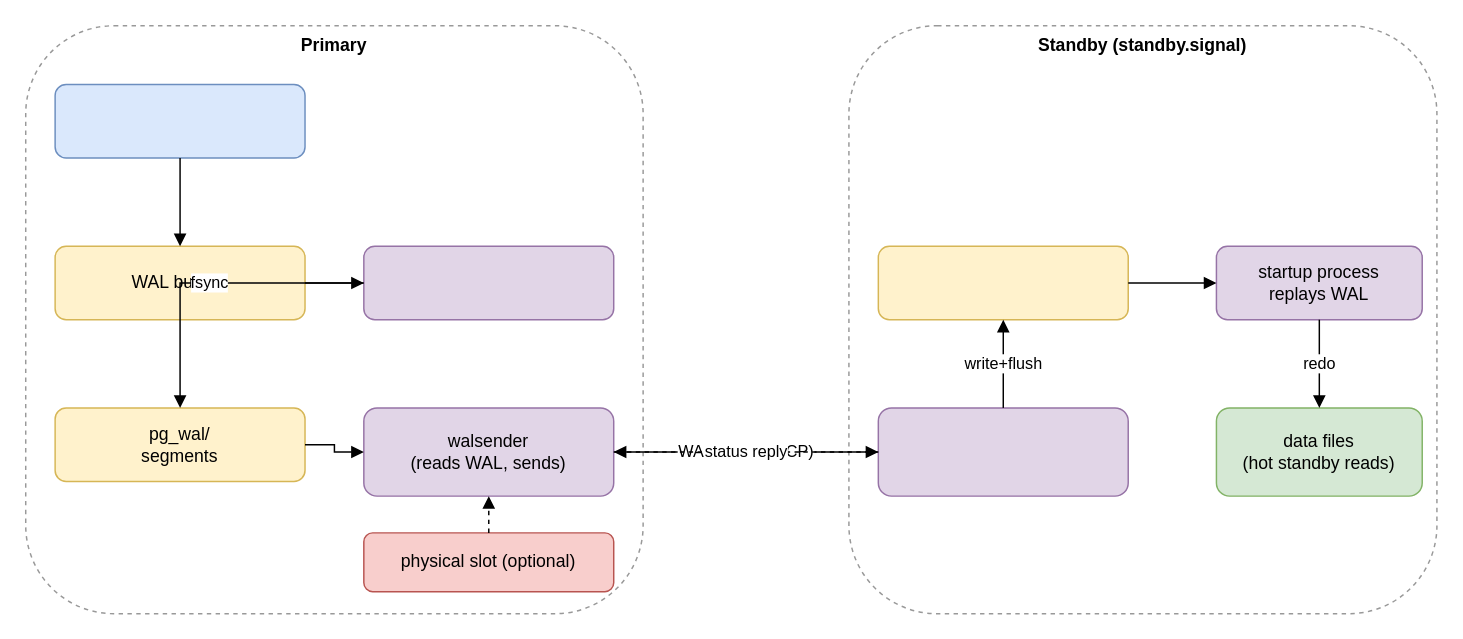
The diagram is 1463 pixels wide and 639 high, and some of its shapes have lost their labels. Each missing label, with the centre of its shape:
"Backends commit" goes at point 179,120.
"pg_wal/ (standby copy)" goes at point 1002,282.
"walreceiver (writes + fsyncs)" goes at point 1002,451.
"walwriter / backend flush" goes at point 488,282.
